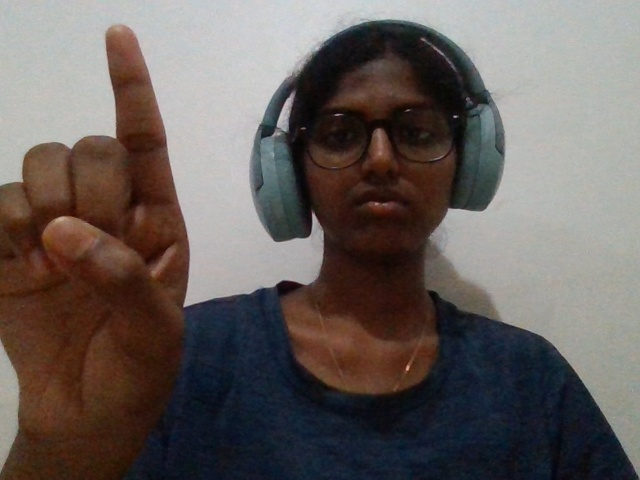D: (2, 16, 211, 471)
